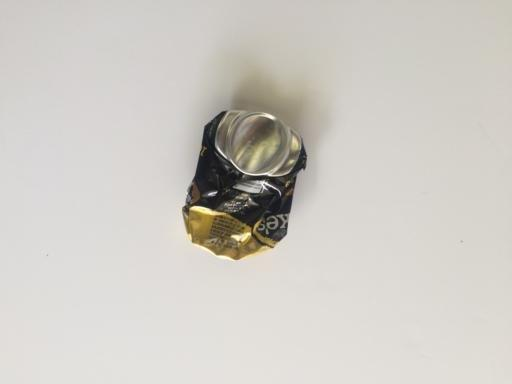kaleng: (184, 110, 307, 258)
